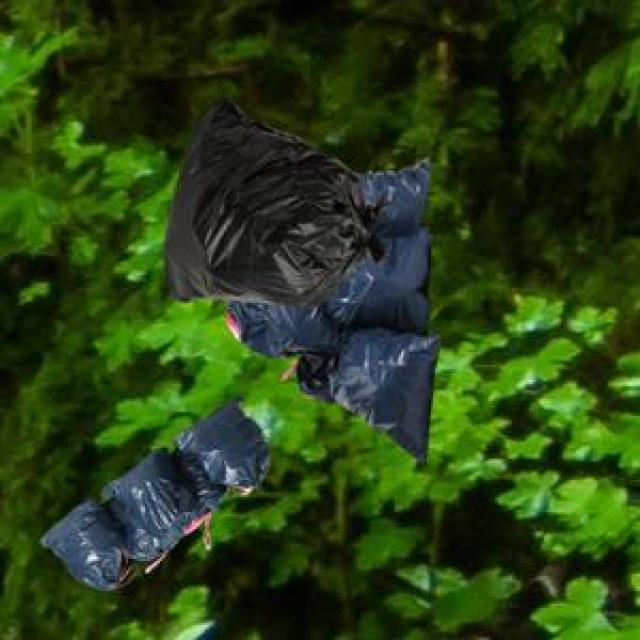waste: (171, 102, 439, 462), (42, 404, 268, 589)
